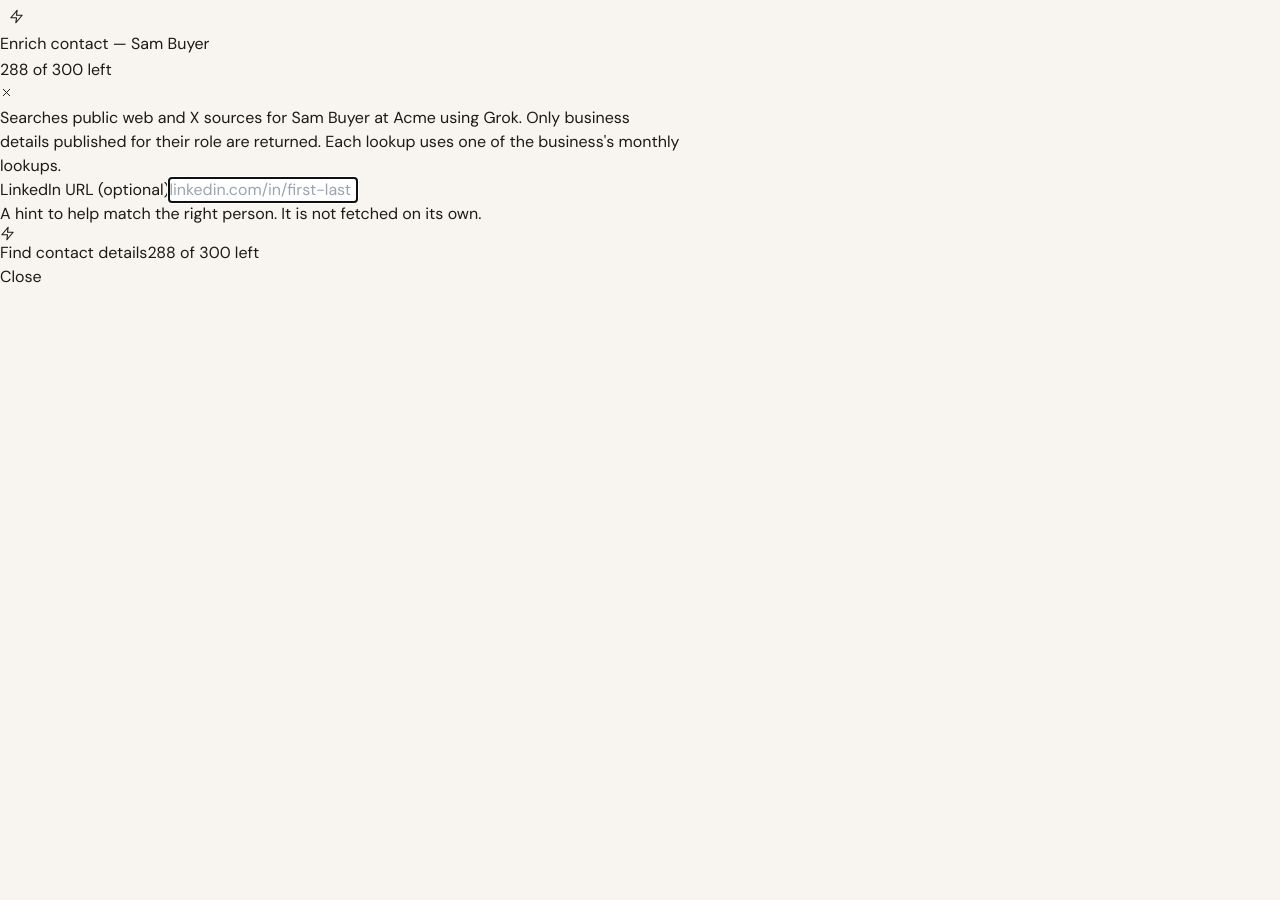
Test case: Enrich modal › "Wrong person" drops the result and applies nothing
Click the button "Find contact details": (74, 246) [0, 226, 147, 265]
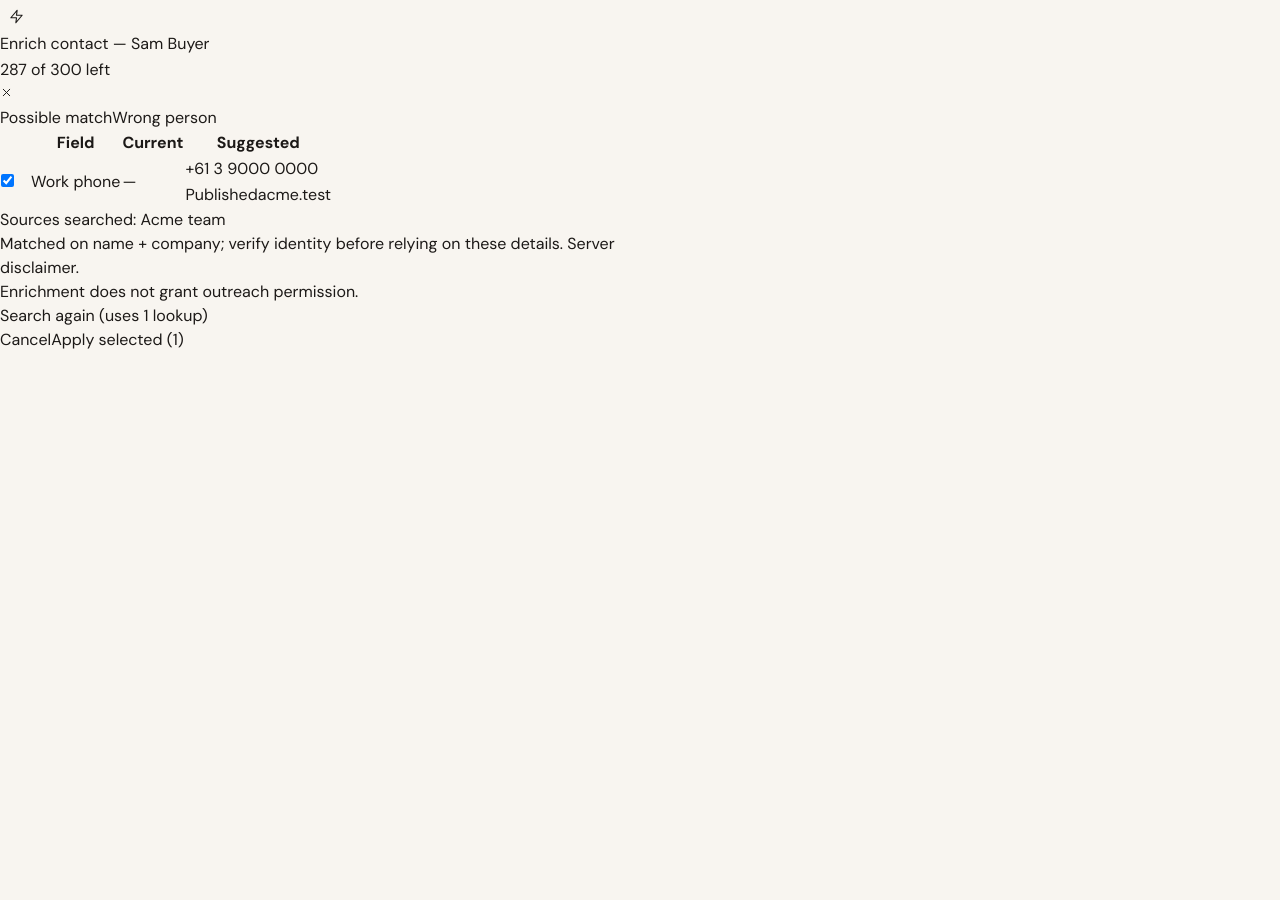
Click the button "Wrong person": (164, 118) [112, 106, 217, 130]
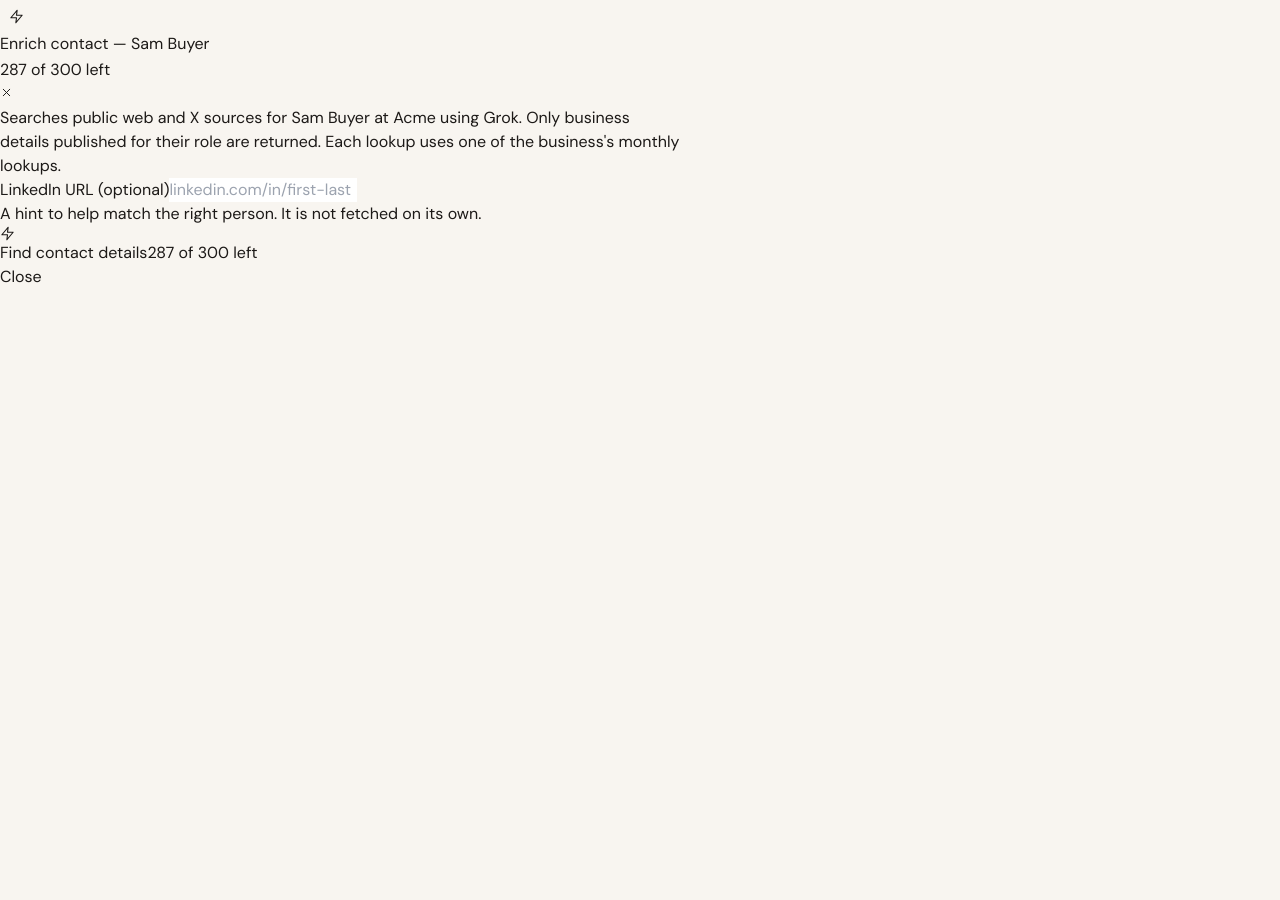
expect the button "Find contact details" is shown: met, box [0, 226, 147, 265]
